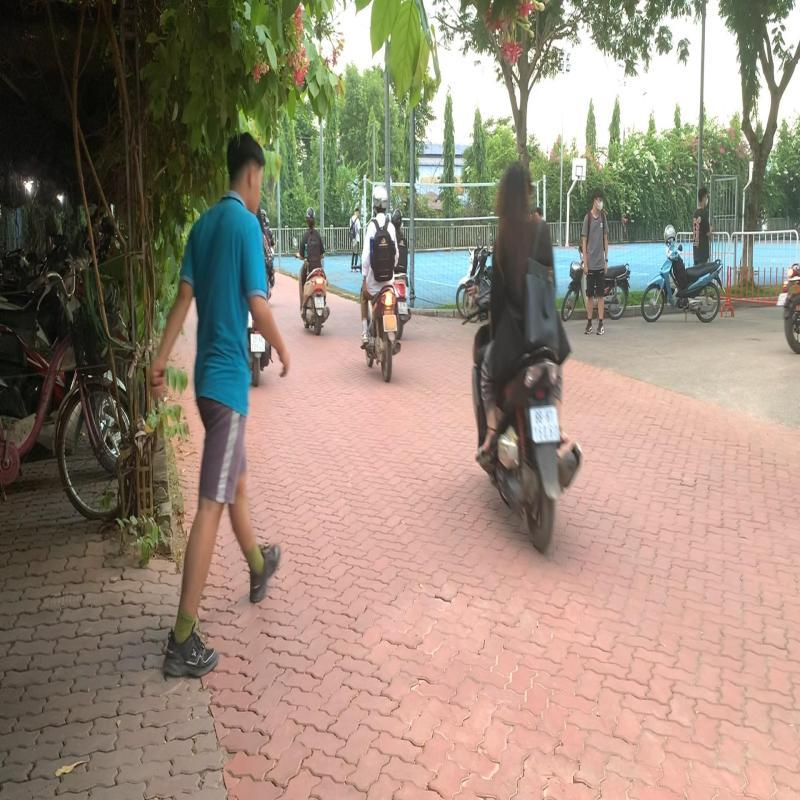nohelmet: (492, 152, 540, 222)
